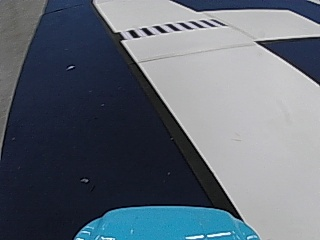CrossWalk: (115, 18, 222, 38)
